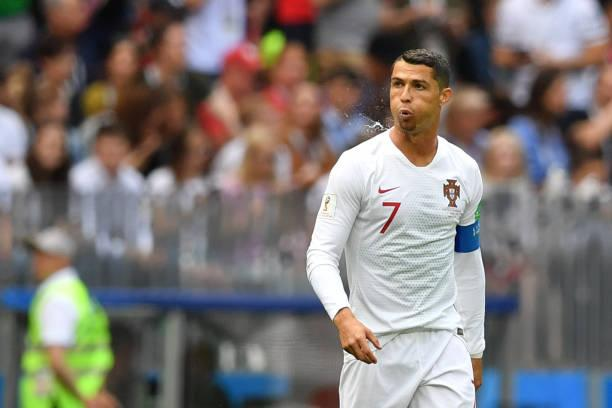Spitting: (334, 21, 501, 166)
